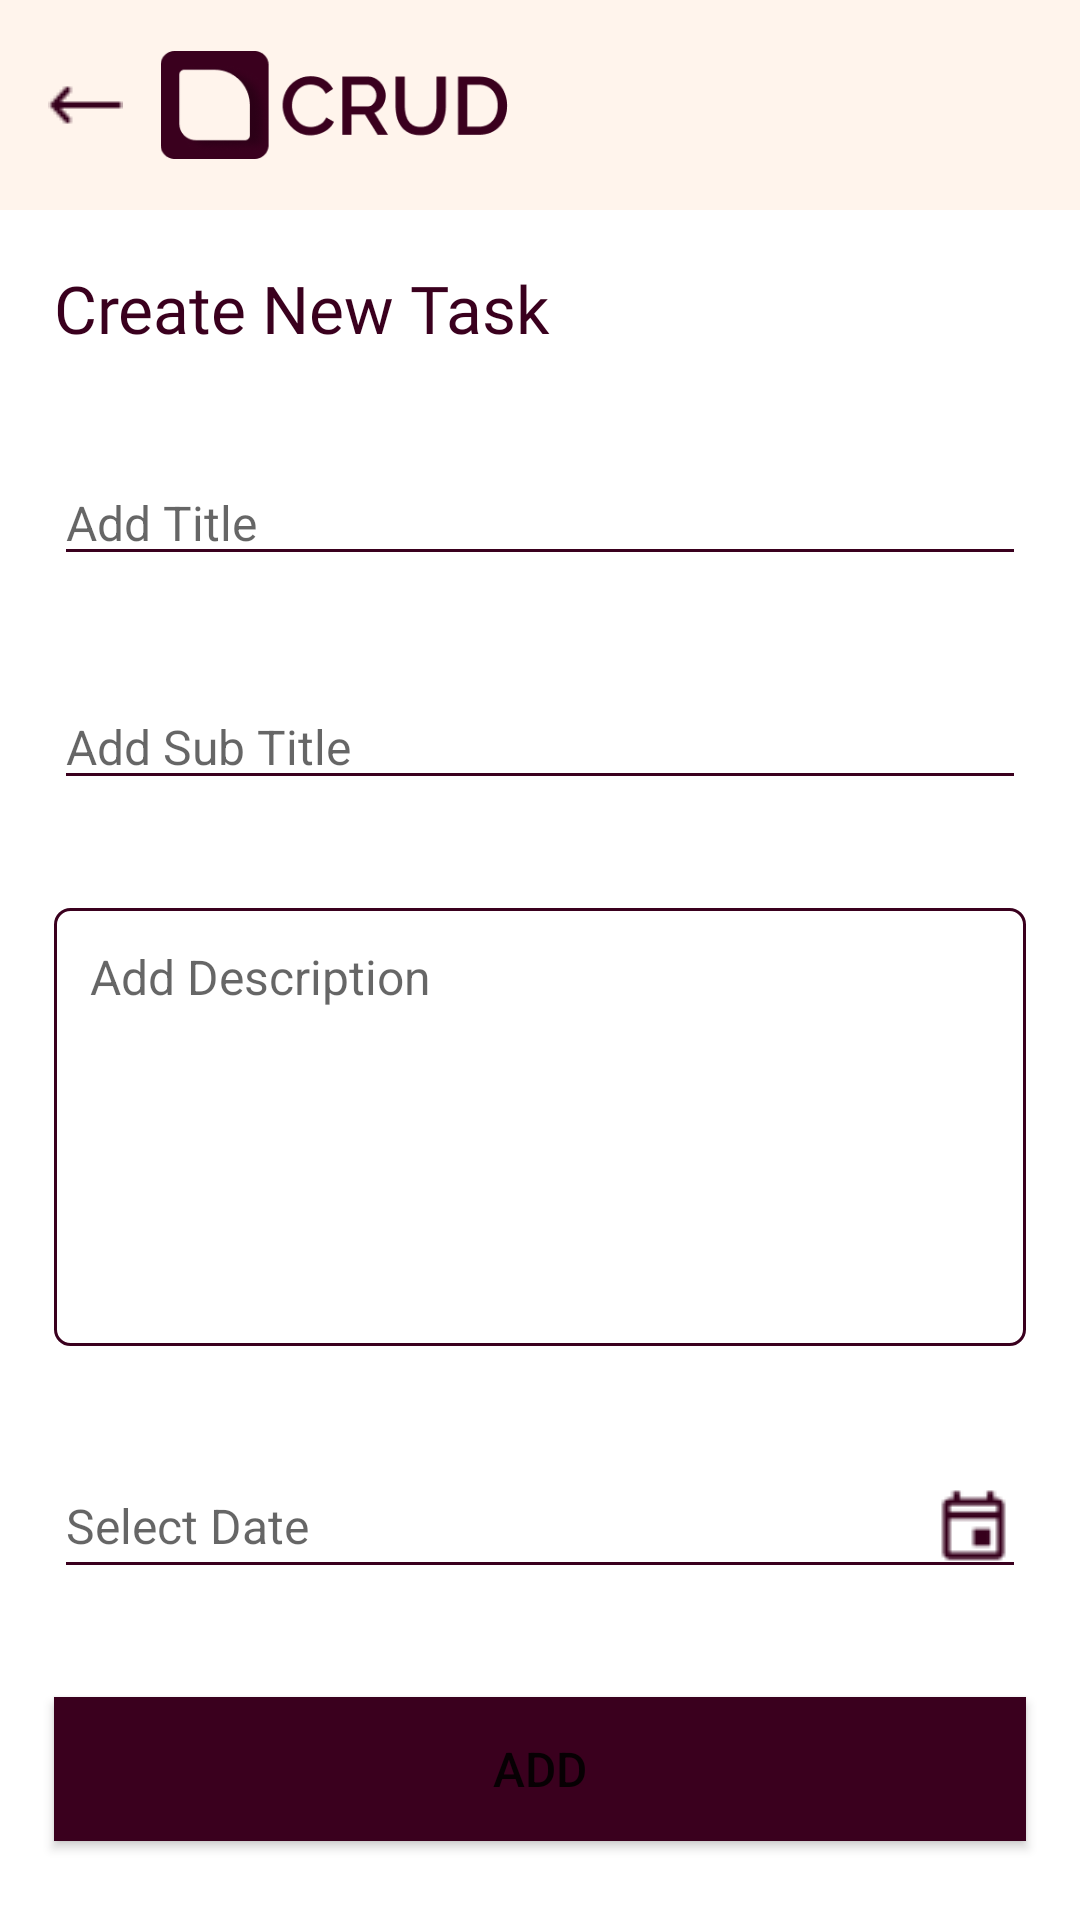

Named icons in this screenshot (1080 x 1920) and their centers, (x=x, y=y):
backbtn: (x=85, y=105)
